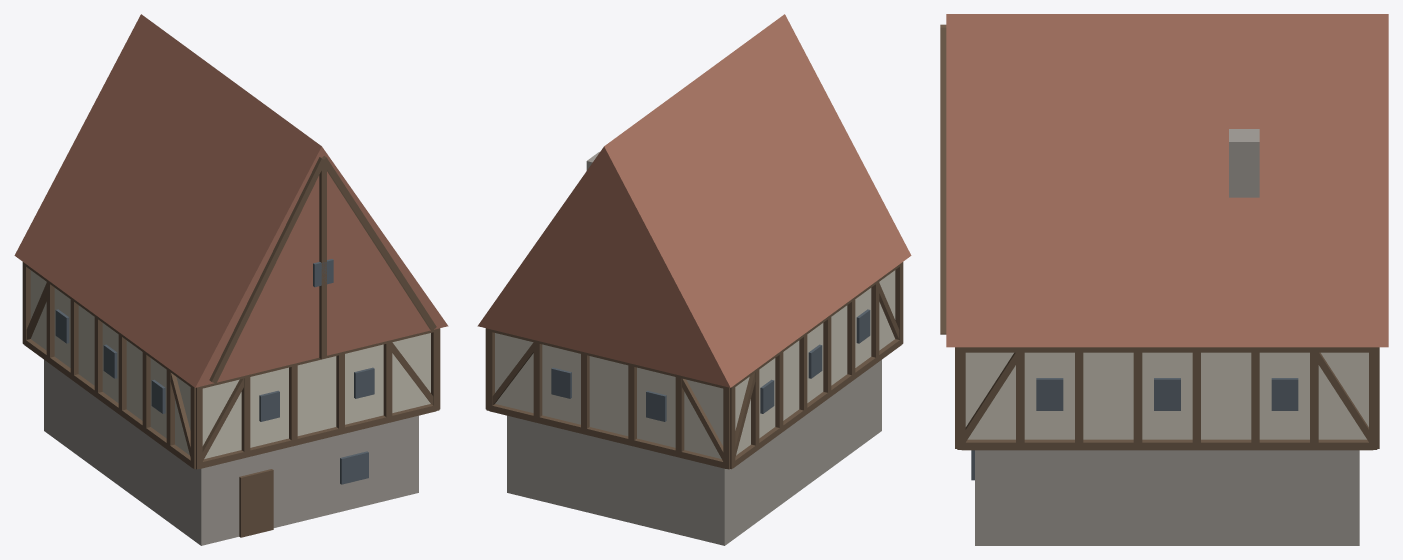
The model's file is m_haus_a.glb.
3 views of the same model, side by side, from view 1: azimuth 30°, elevation 25°; view 2: azimuth 150°, elevation 25°; view 3: azimuth 270°, elevation 25° (orthographic). The views are drawn at different scales.
Parts seen in each view (by area): view 1: koerper; view 2: koerper; view 3: koerper.
Boxes of the visible parts, x1,y1,x2,y2 form: koerper: (14, 14, 448, 545); koerper: (477, 14, 911, 545); koerper: (940, 14, 1388, 545).
Bounding box in the file's own units: 9.3 × 13.4 × 11.65.
